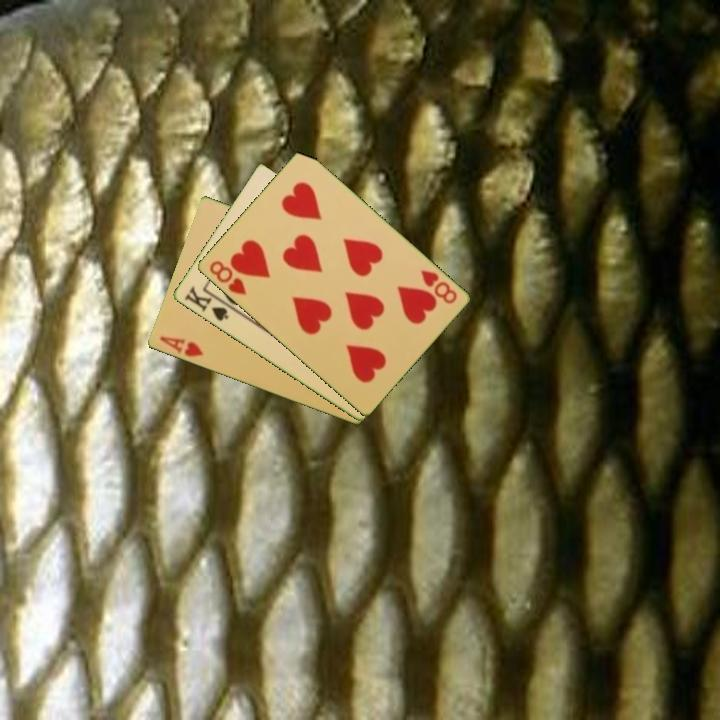8h: (205, 257, 249, 298), (417, 266, 460, 307)
Ah: (156, 333, 206, 360)
Ks: (181, 283, 235, 324)
